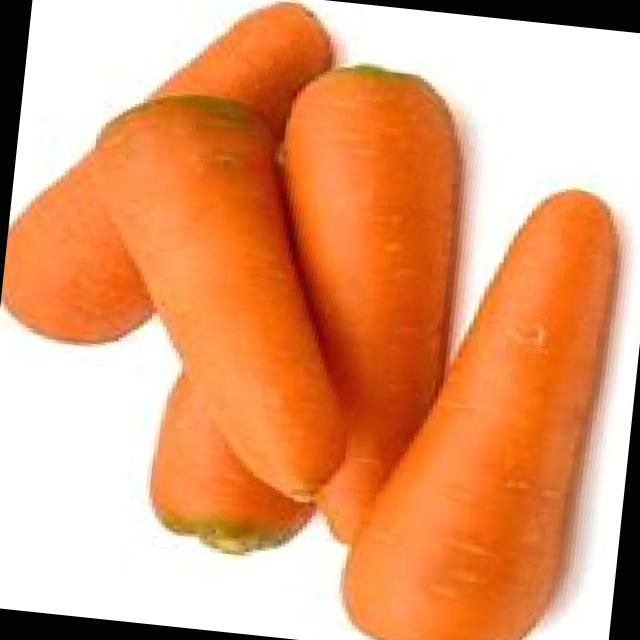carrot: (338, 186, 624, 640), (91, 101, 350, 492), (285, 64, 462, 544)
